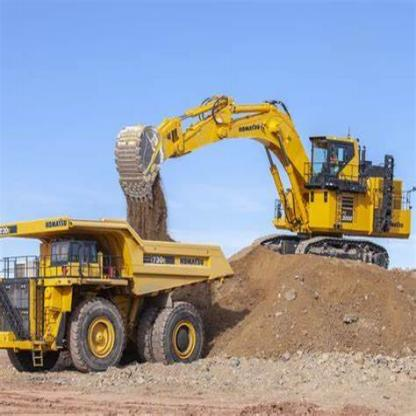dump_truck: (3, 216, 237, 382)
